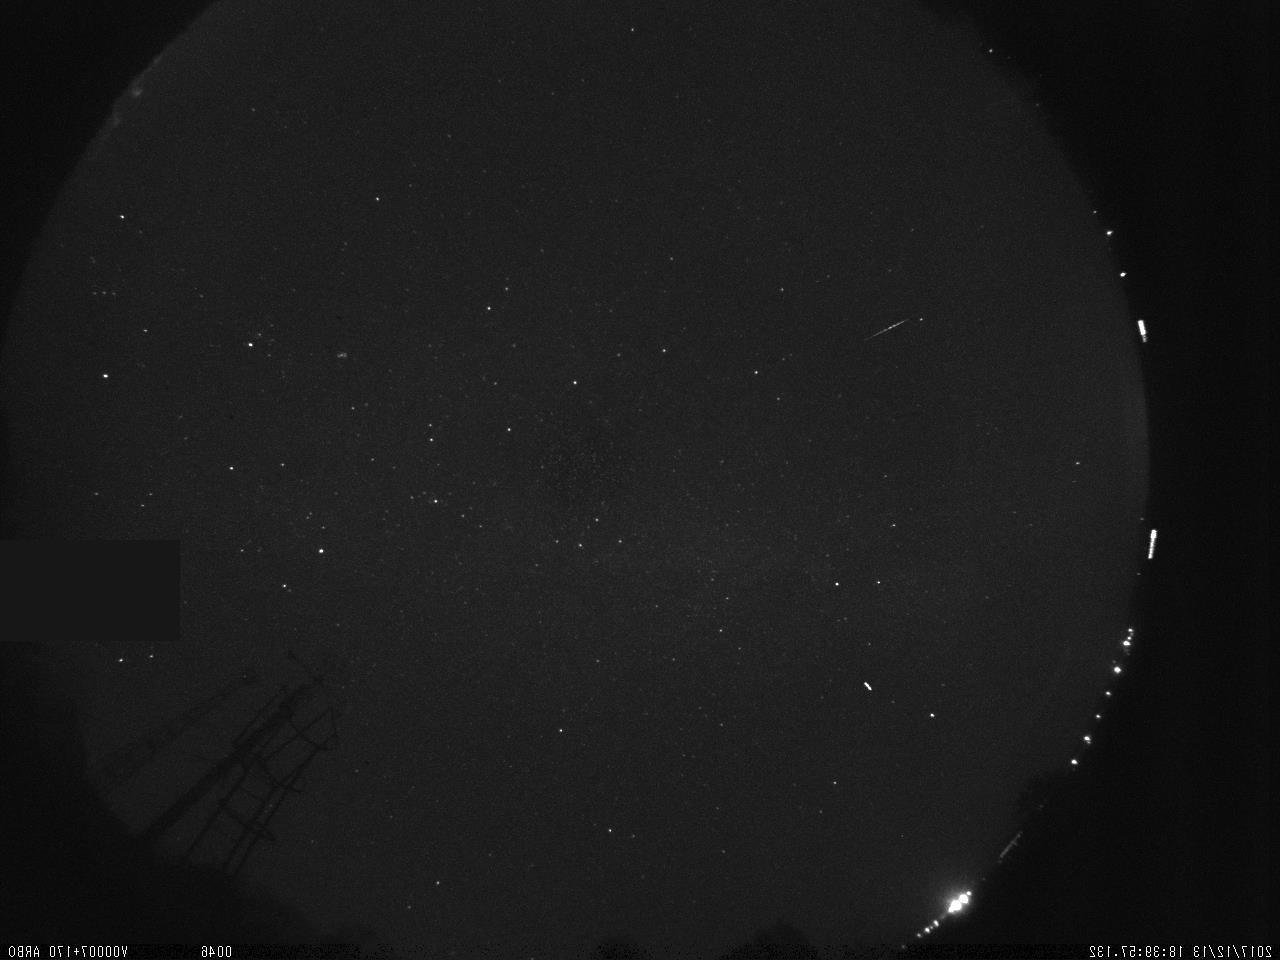meteor: (865, 312, 914, 345)
